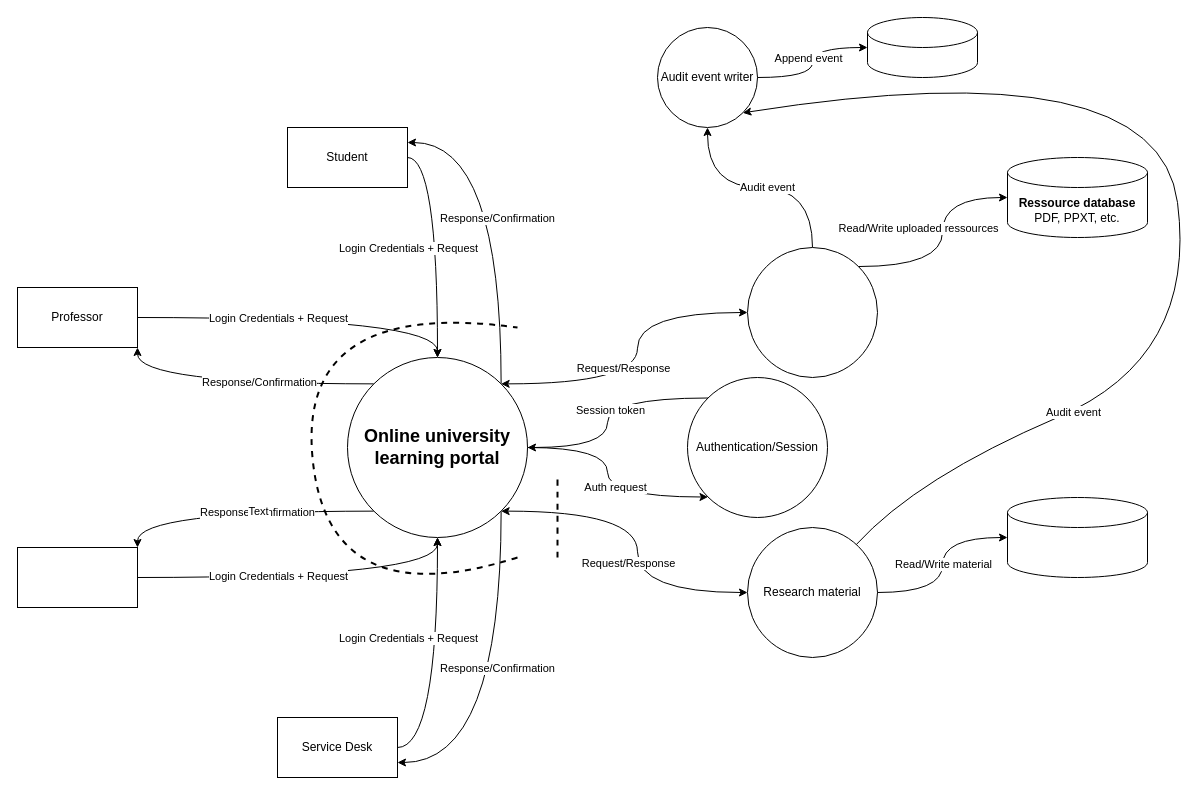
Image size: 1198x795. Some labels were removed from this diagram. The centre of each missing label's shape, as x and y in pixels:
Audit log database: (922,47)
Research database Research papers, studies, etc.: (1077,537)
Researcher/Lecturer: (77,577)
Ressource service: (812,312)
